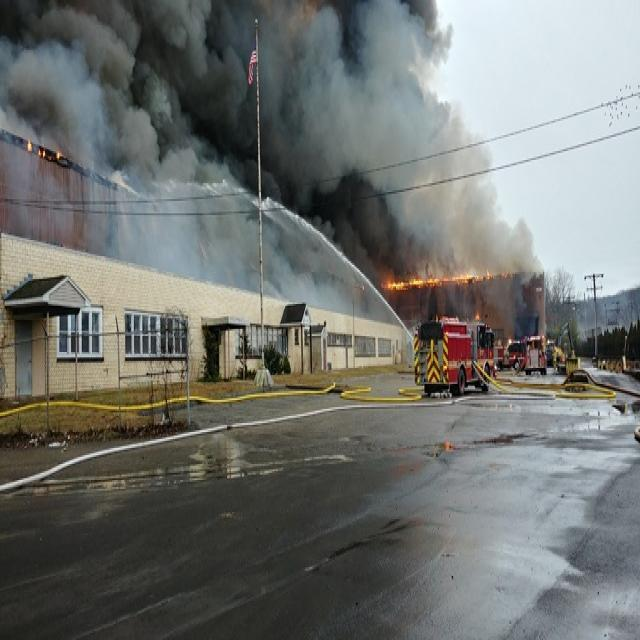Fire: (364, 254, 529, 295), (14, 128, 68, 171)
Smoke: (0, 0, 439, 183), (291, 101, 552, 322)
